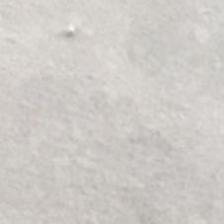Non_Crack: (11, 49, 192, 189)
